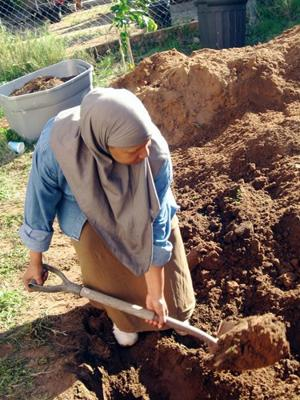person: (21, 85, 196, 346)
